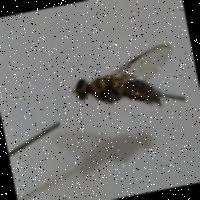Oriental-fruit-fly: (45, 25, 186, 128)
